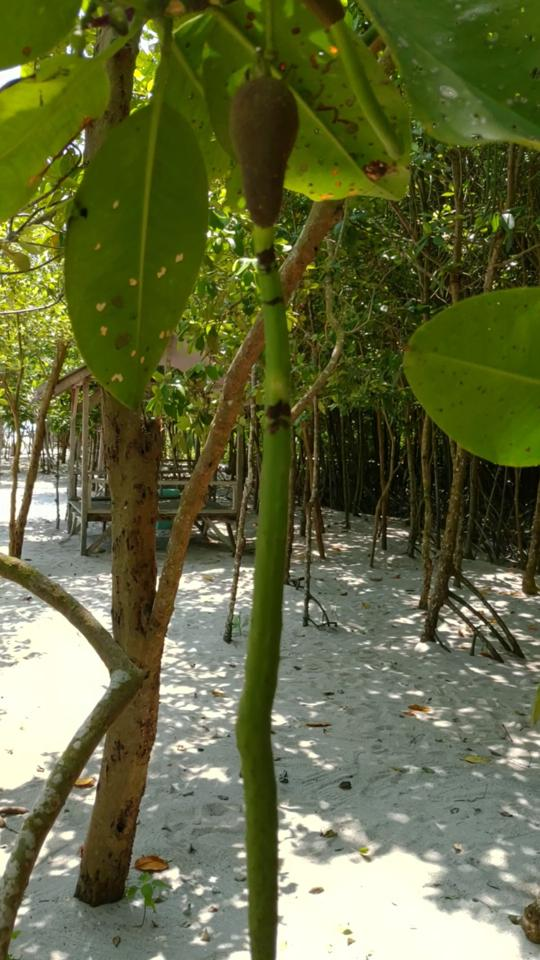mentah: (206, 45, 324, 955)
